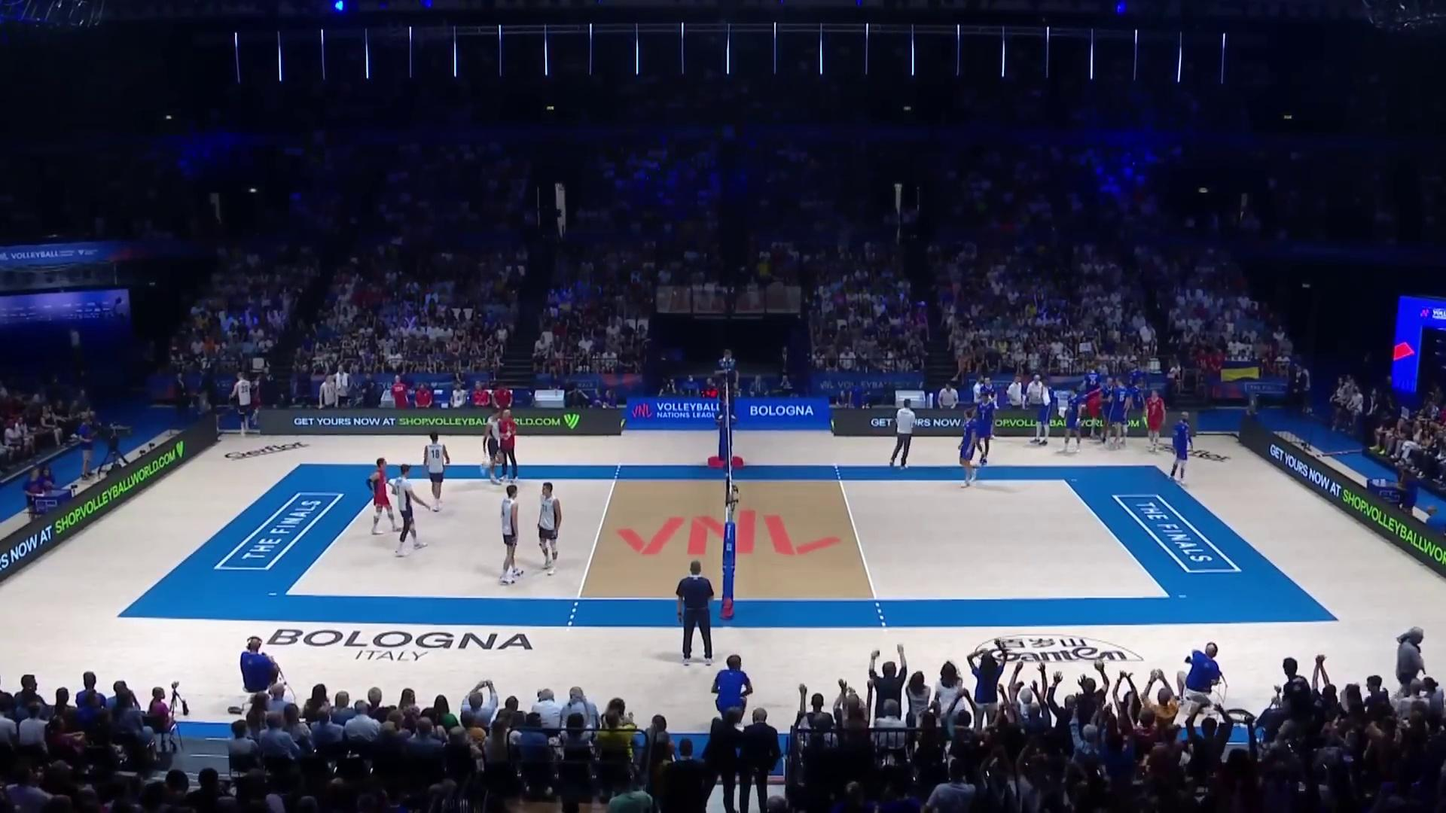player: (393, 463, 428, 556), (533, 482, 564, 575), (497, 483, 524, 586), (365, 457, 400, 535), (1165, 412, 1195, 488), (956, 406, 982, 488), (479, 408, 505, 486), (423, 430, 448, 510)
refree: (673, 563, 713, 665), (714, 352, 738, 419)
